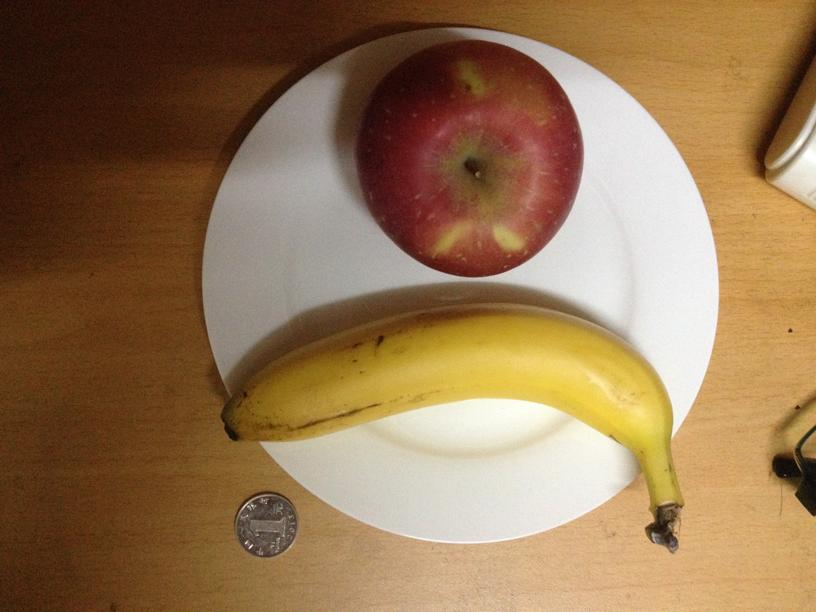apple: (354, 39, 584, 276)
banana: (222, 301, 680, 494)
coin: (233, 489, 297, 558)
